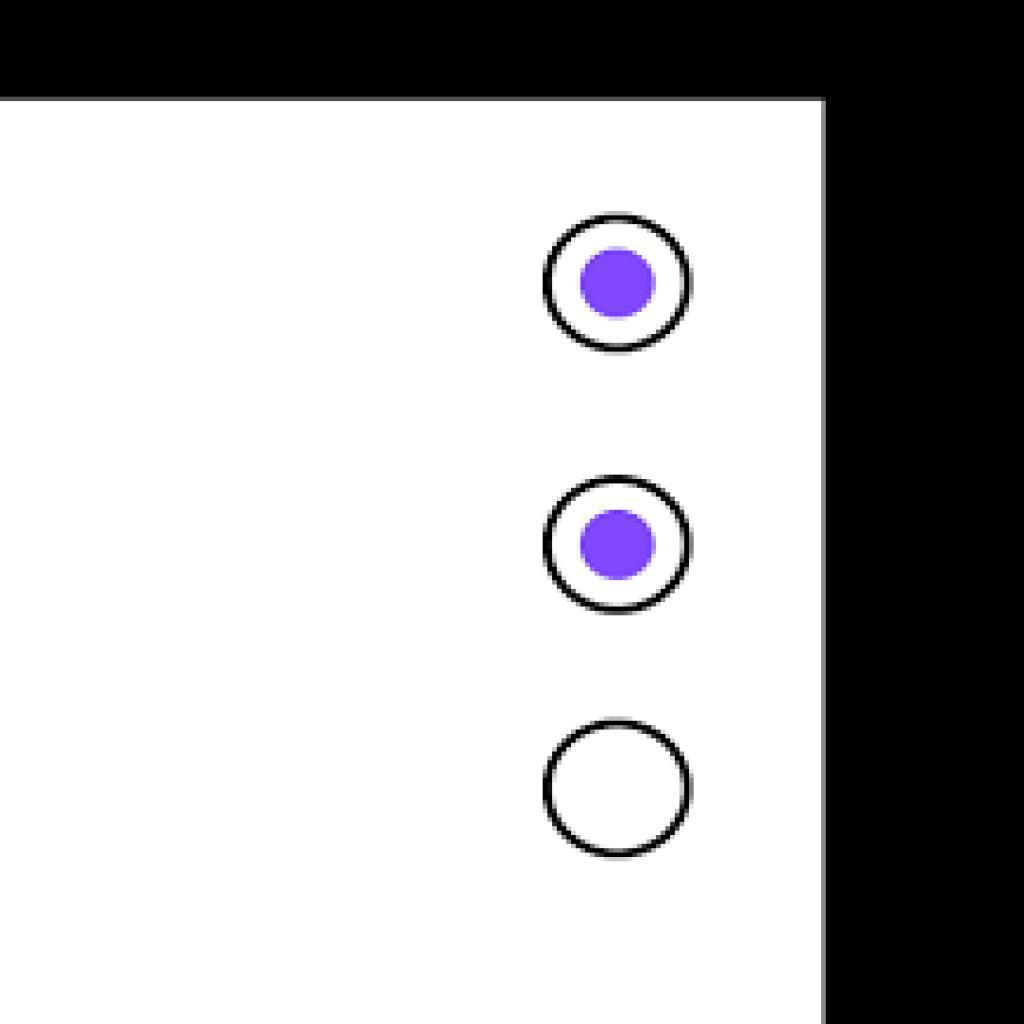radio: (531, 461, 707, 633), (528, 203, 705, 364), (535, 708, 698, 867)
